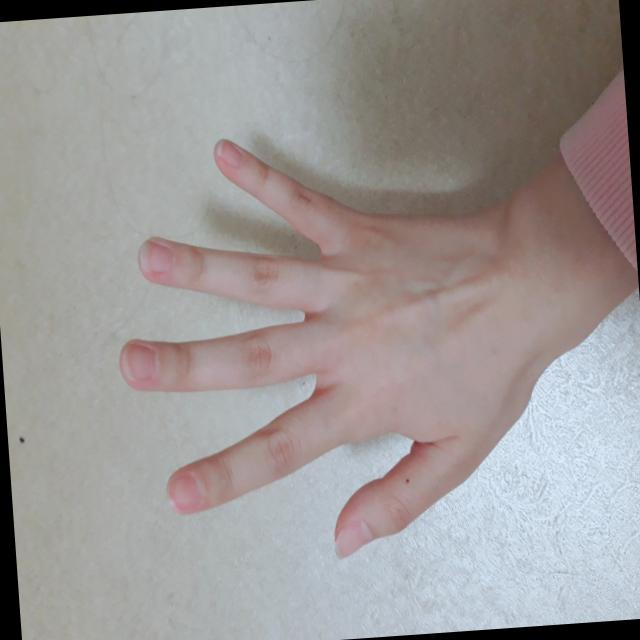Nail: (336, 517, 373, 564), (124, 343, 158, 386), (168, 475, 202, 512), (139, 240, 175, 273), (216, 138, 242, 168)
